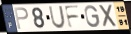8: (32, 6, 47, 29)
F: (63, 5, 81, 29)
G: (84, 4, 101, 28)
P: (13, 7, 30, 30)
U: (48, 5, 67, 30)
X: (98, 4, 118, 29)
